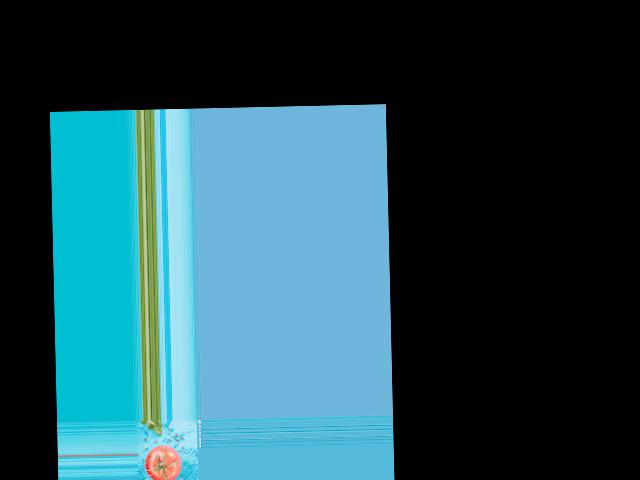tomato: (144, 445, 182, 480)
